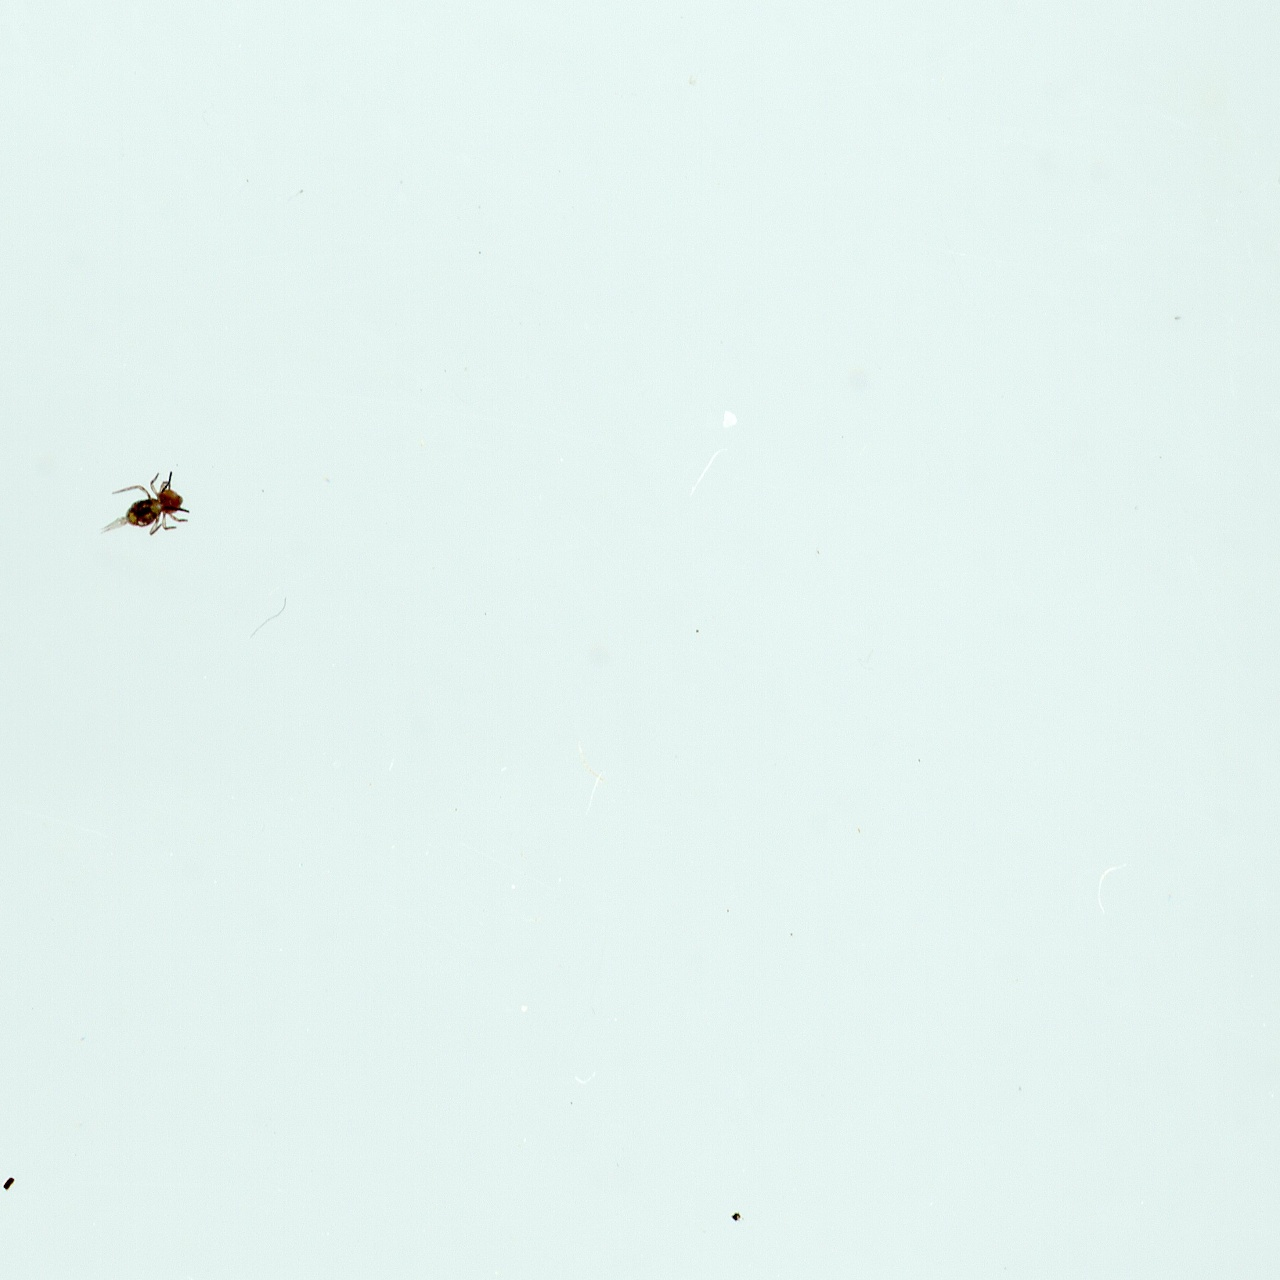arthropod: (79, 452, 208, 570)
